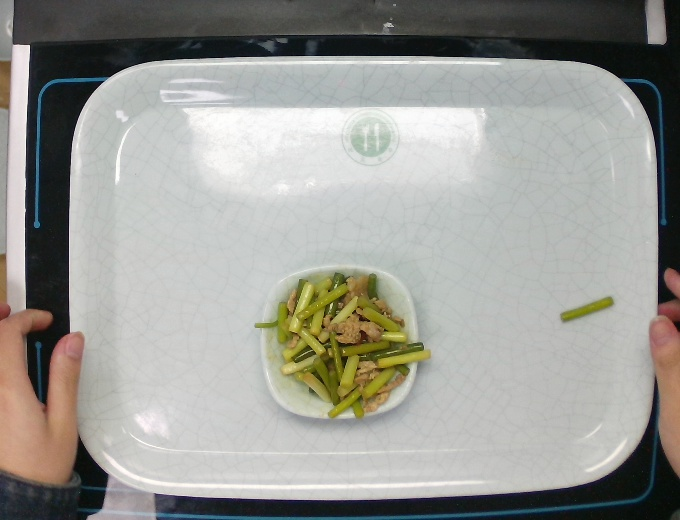JYsf-Si_Fang_Die: (245, 245, 426, 430)
